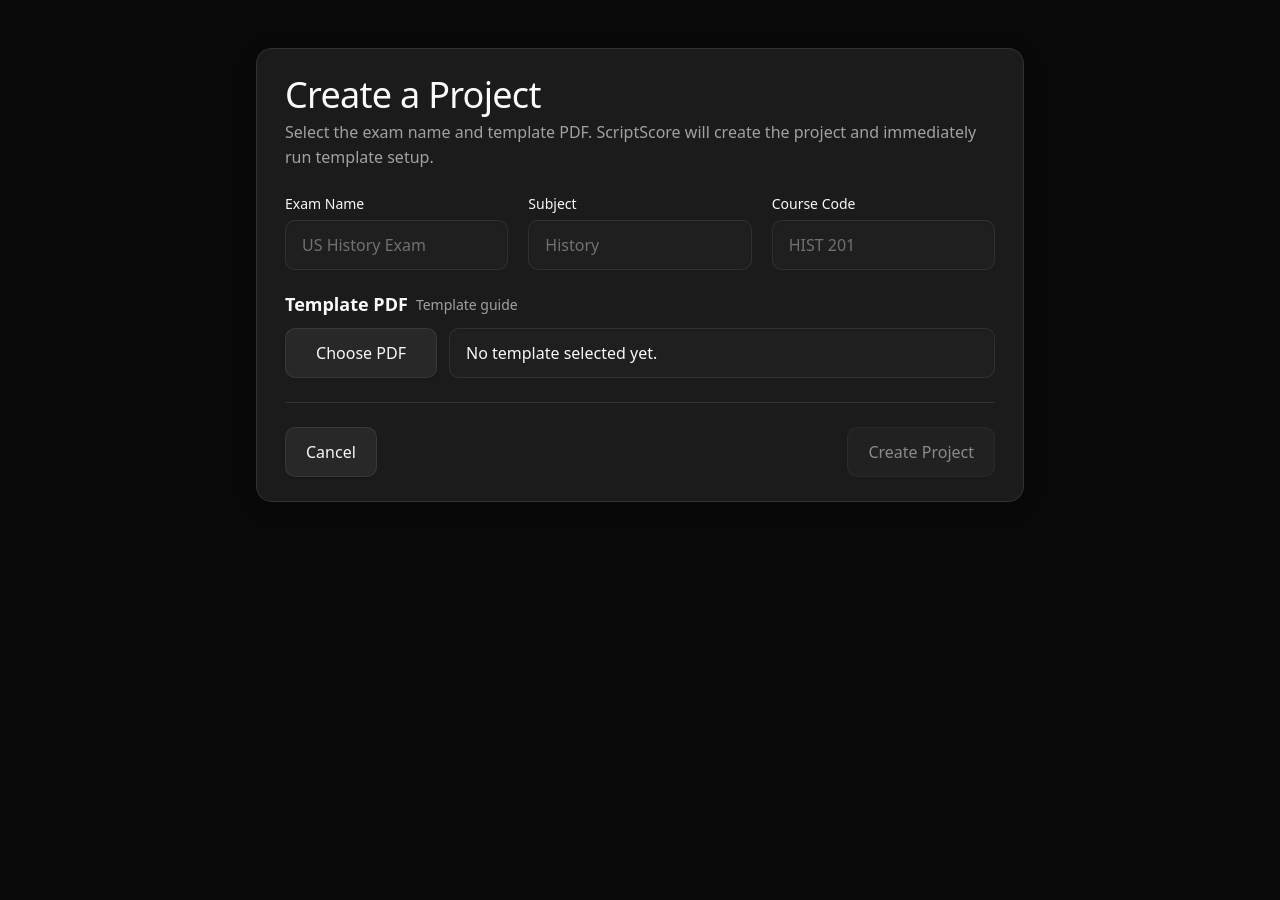
Scenario: CreateProjectPanel › opens the template PDF guide from the template field
Click the button "Template guide" at (467, 305), box [416,295,518,315]
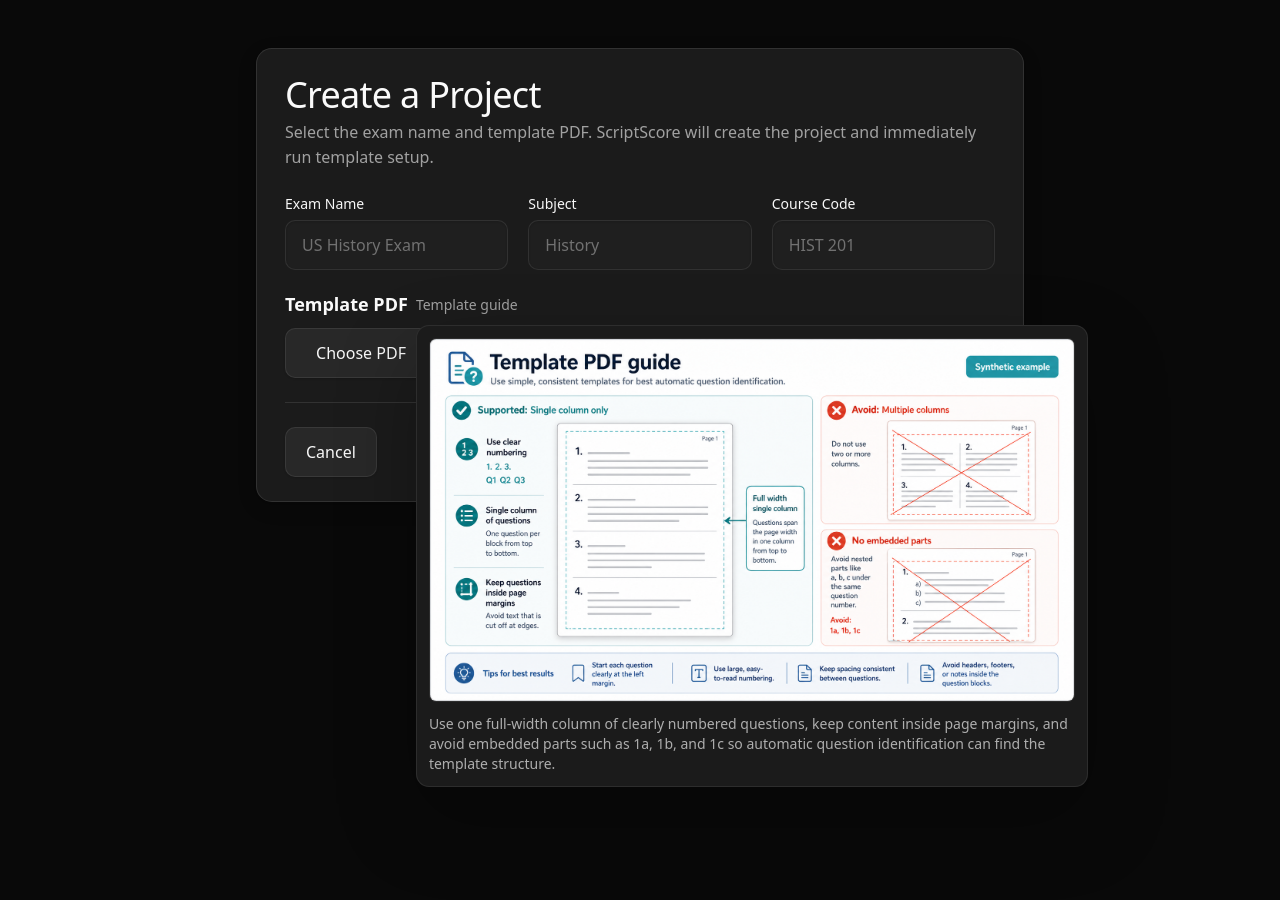
Expected: the dialog named "Template PDF guide" is shown, [416,325,1088,787]
Expected: the text "avoid embedded parts" is shown, [429,714,1068,773]
